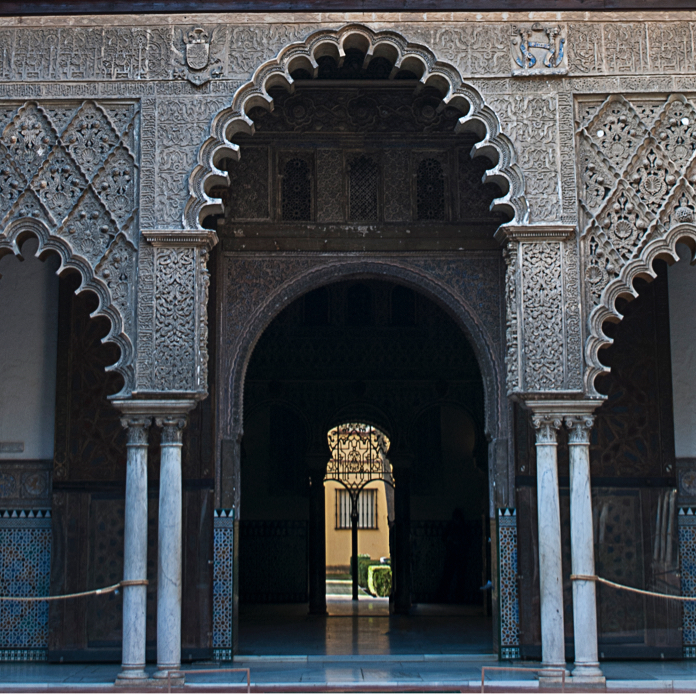arco-lobulado: (173, 16, 529, 258), (1, 210, 135, 439), (580, 218, 696, 440)
